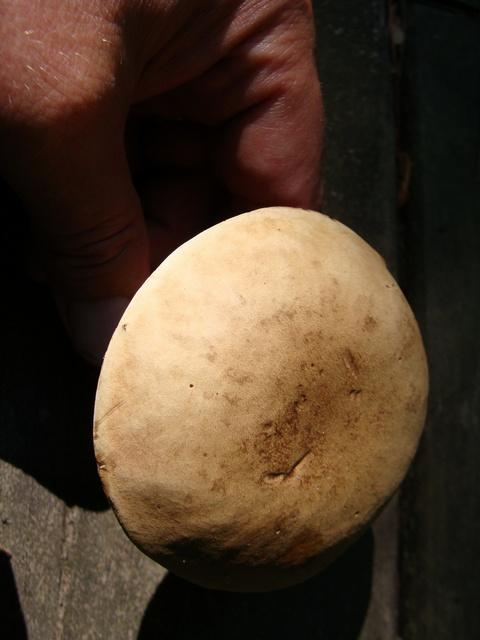poisonous_mushroom: (90, 203, 431, 592)
